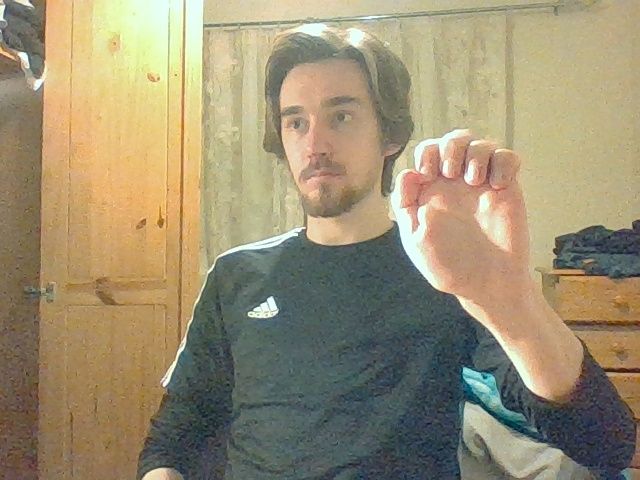your: (392, 129, 531, 290)
